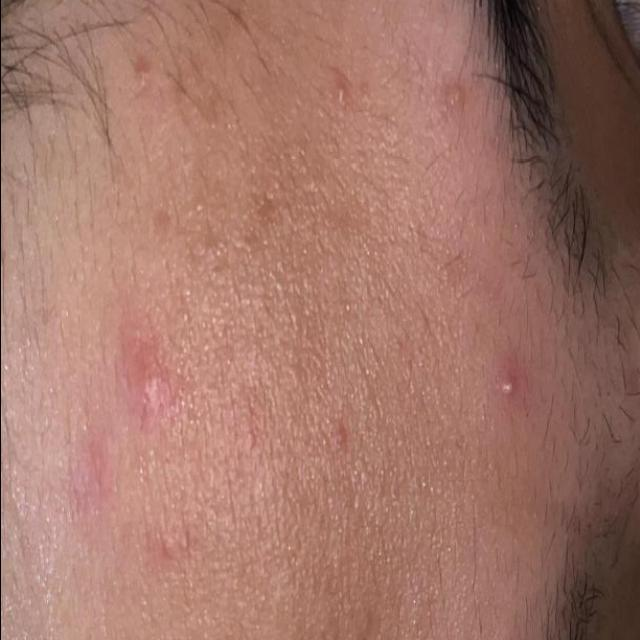papule: (39, 293, 204, 590)
pustule: (306, 69, 354, 121), (486, 363, 525, 413)
